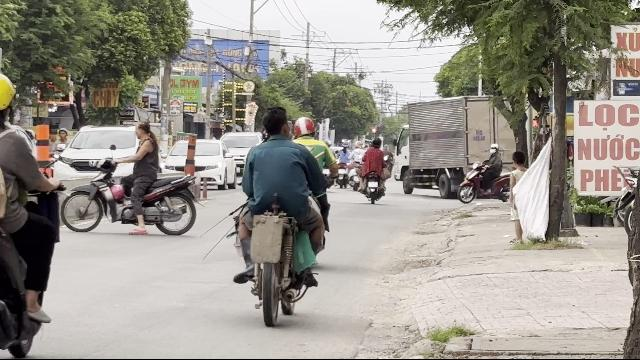helmet: (294, 116, 316, 138)
motorcyclist: (225, 106, 332, 322), (59, 121, 205, 243)
nohelmet: (259, 108, 289, 140), (134, 121, 152, 141)
